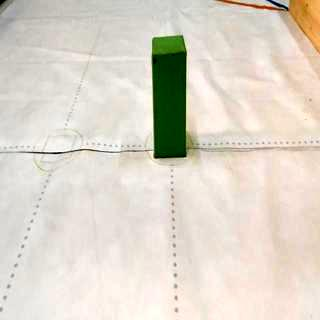greenbox: (152, 36, 188, 160)
